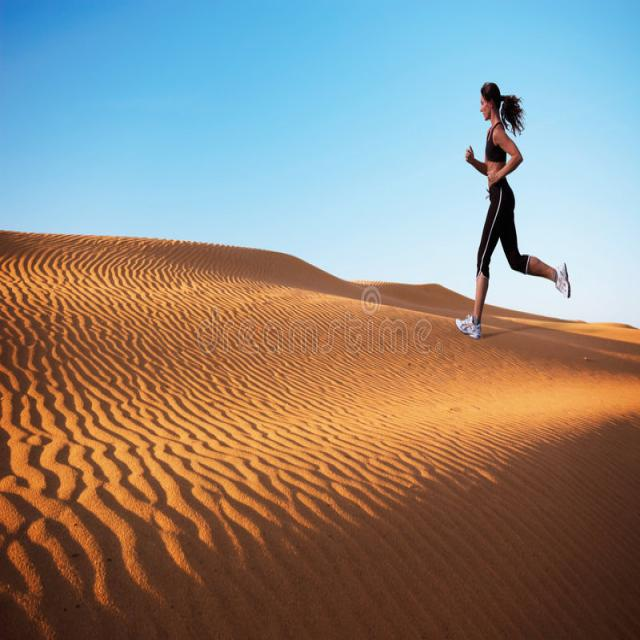running: (452, 81, 574, 341)
